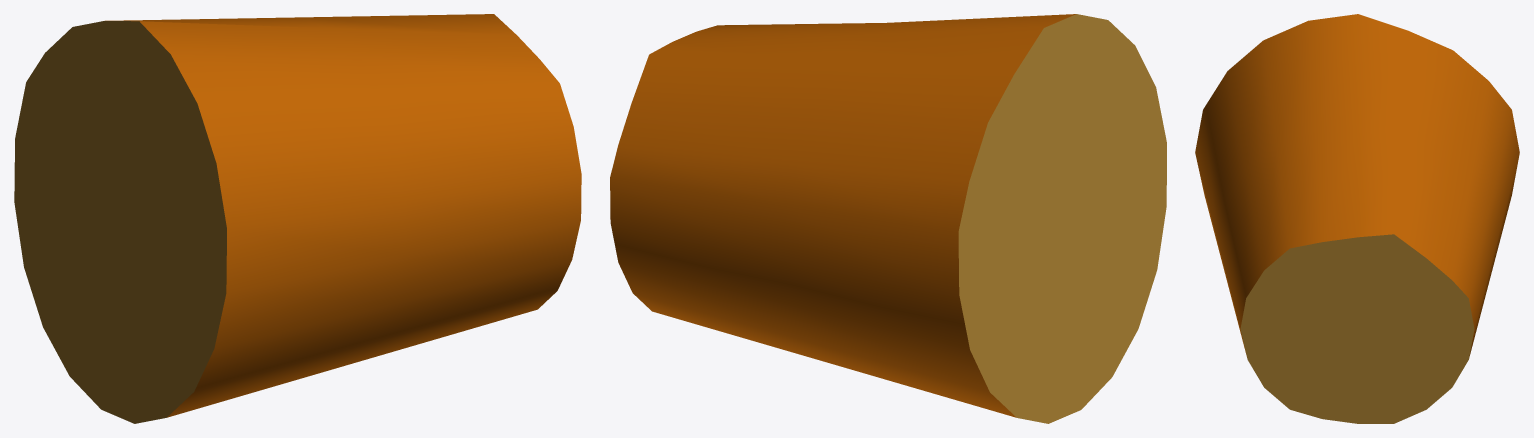
The model's file is mesh_CarrotSlice_Stage04.fbx.
3 views of the same model, side by side, from view 1: azimuth 30°, elevation 25°; view 2: azimuth 150°, elevation 25°; view 3: azimuth 270°, elevation 25° (orthographic). The views are drawn at different scales.
Visible parts, largest first — view 1: mesh_CarrotSlice_Stage04; view 2: mesh_CarrotSlice_Stage04; view 3: mesh_CarrotSlice_Stage04.
Boxes of the visible parts, bbox=[...] form: mesh_CarrotSlice_Stage04: bbox=[14, 14, 581, 423]; mesh_CarrotSlice_Stage04: bbox=[610, 14, 1166, 423]; mesh_CarrotSlice_Stage04: bbox=[1195, 14, 1519, 423].
Size of the model in its own units: 0.0211 by 0.0184 by 0.0186.
